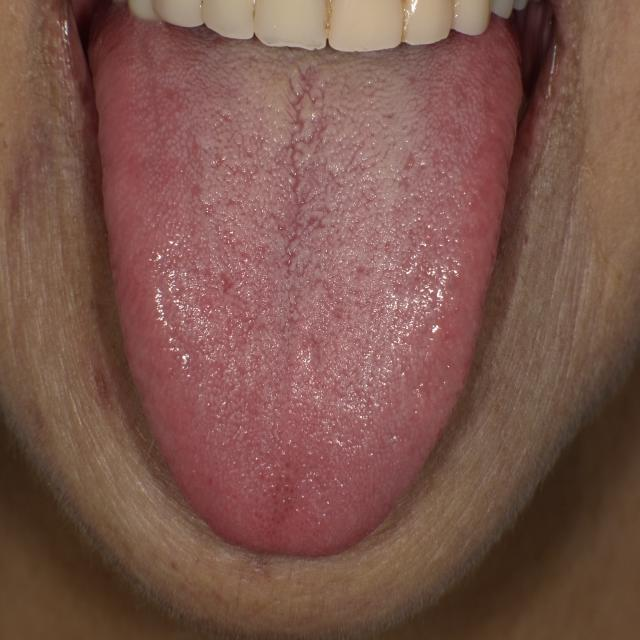baitaishe: (86, 2, 524, 556)
liewenshe: (284, 58, 321, 207)
